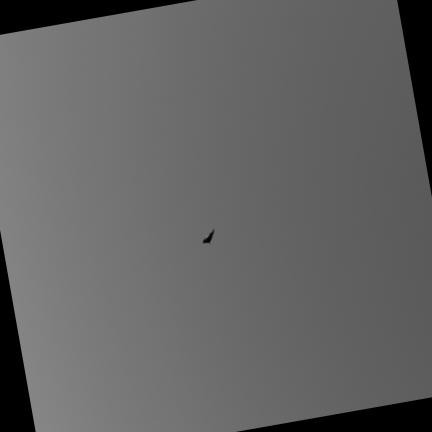Shahed: (202, 229, 214, 243)
